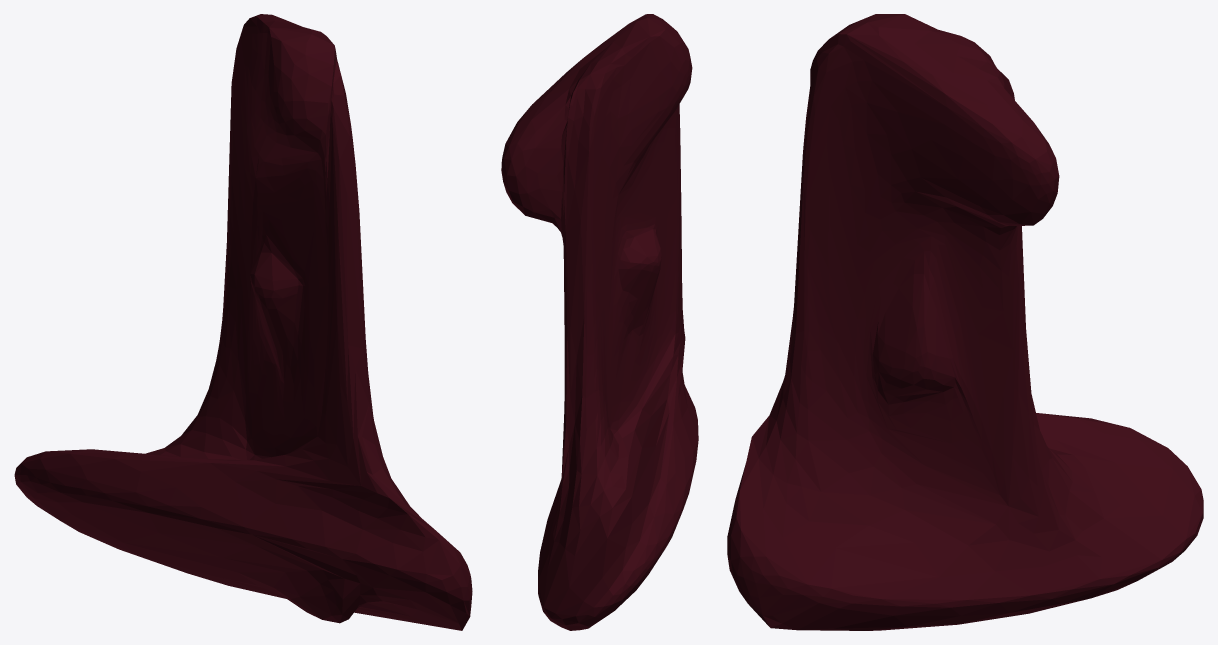
3 views of the same model, side by side, from view 1: azimuth 30°, elevation 25°; view 2: azimuth 150°, elevation 25°; view 3: azimuth 270°, elevation 25° (orthographic). The views are drawn at different scales.
Parts seen in each view (by area): view 1: 518_Cube.2092; view 2: 518_Cube.2092; view 3: 518_Cube.2092.
Part boxes in pixels (<box>): 518_Cube.2092: <box>14,14,472,630</box>; 518_Cube.2092: <box>501,14,698,630</box>; 518_Cube.2092: <box>727,14,1203,630</box>.
Size of the model in its own units: 5.73 by 13.54 by 9.97.
